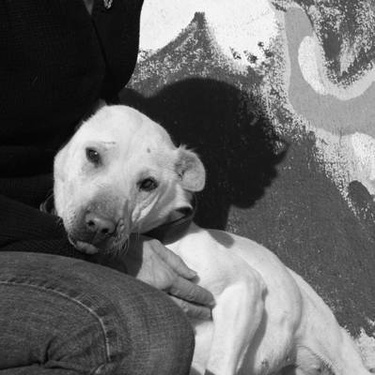dog: (29, 92, 369, 373)
